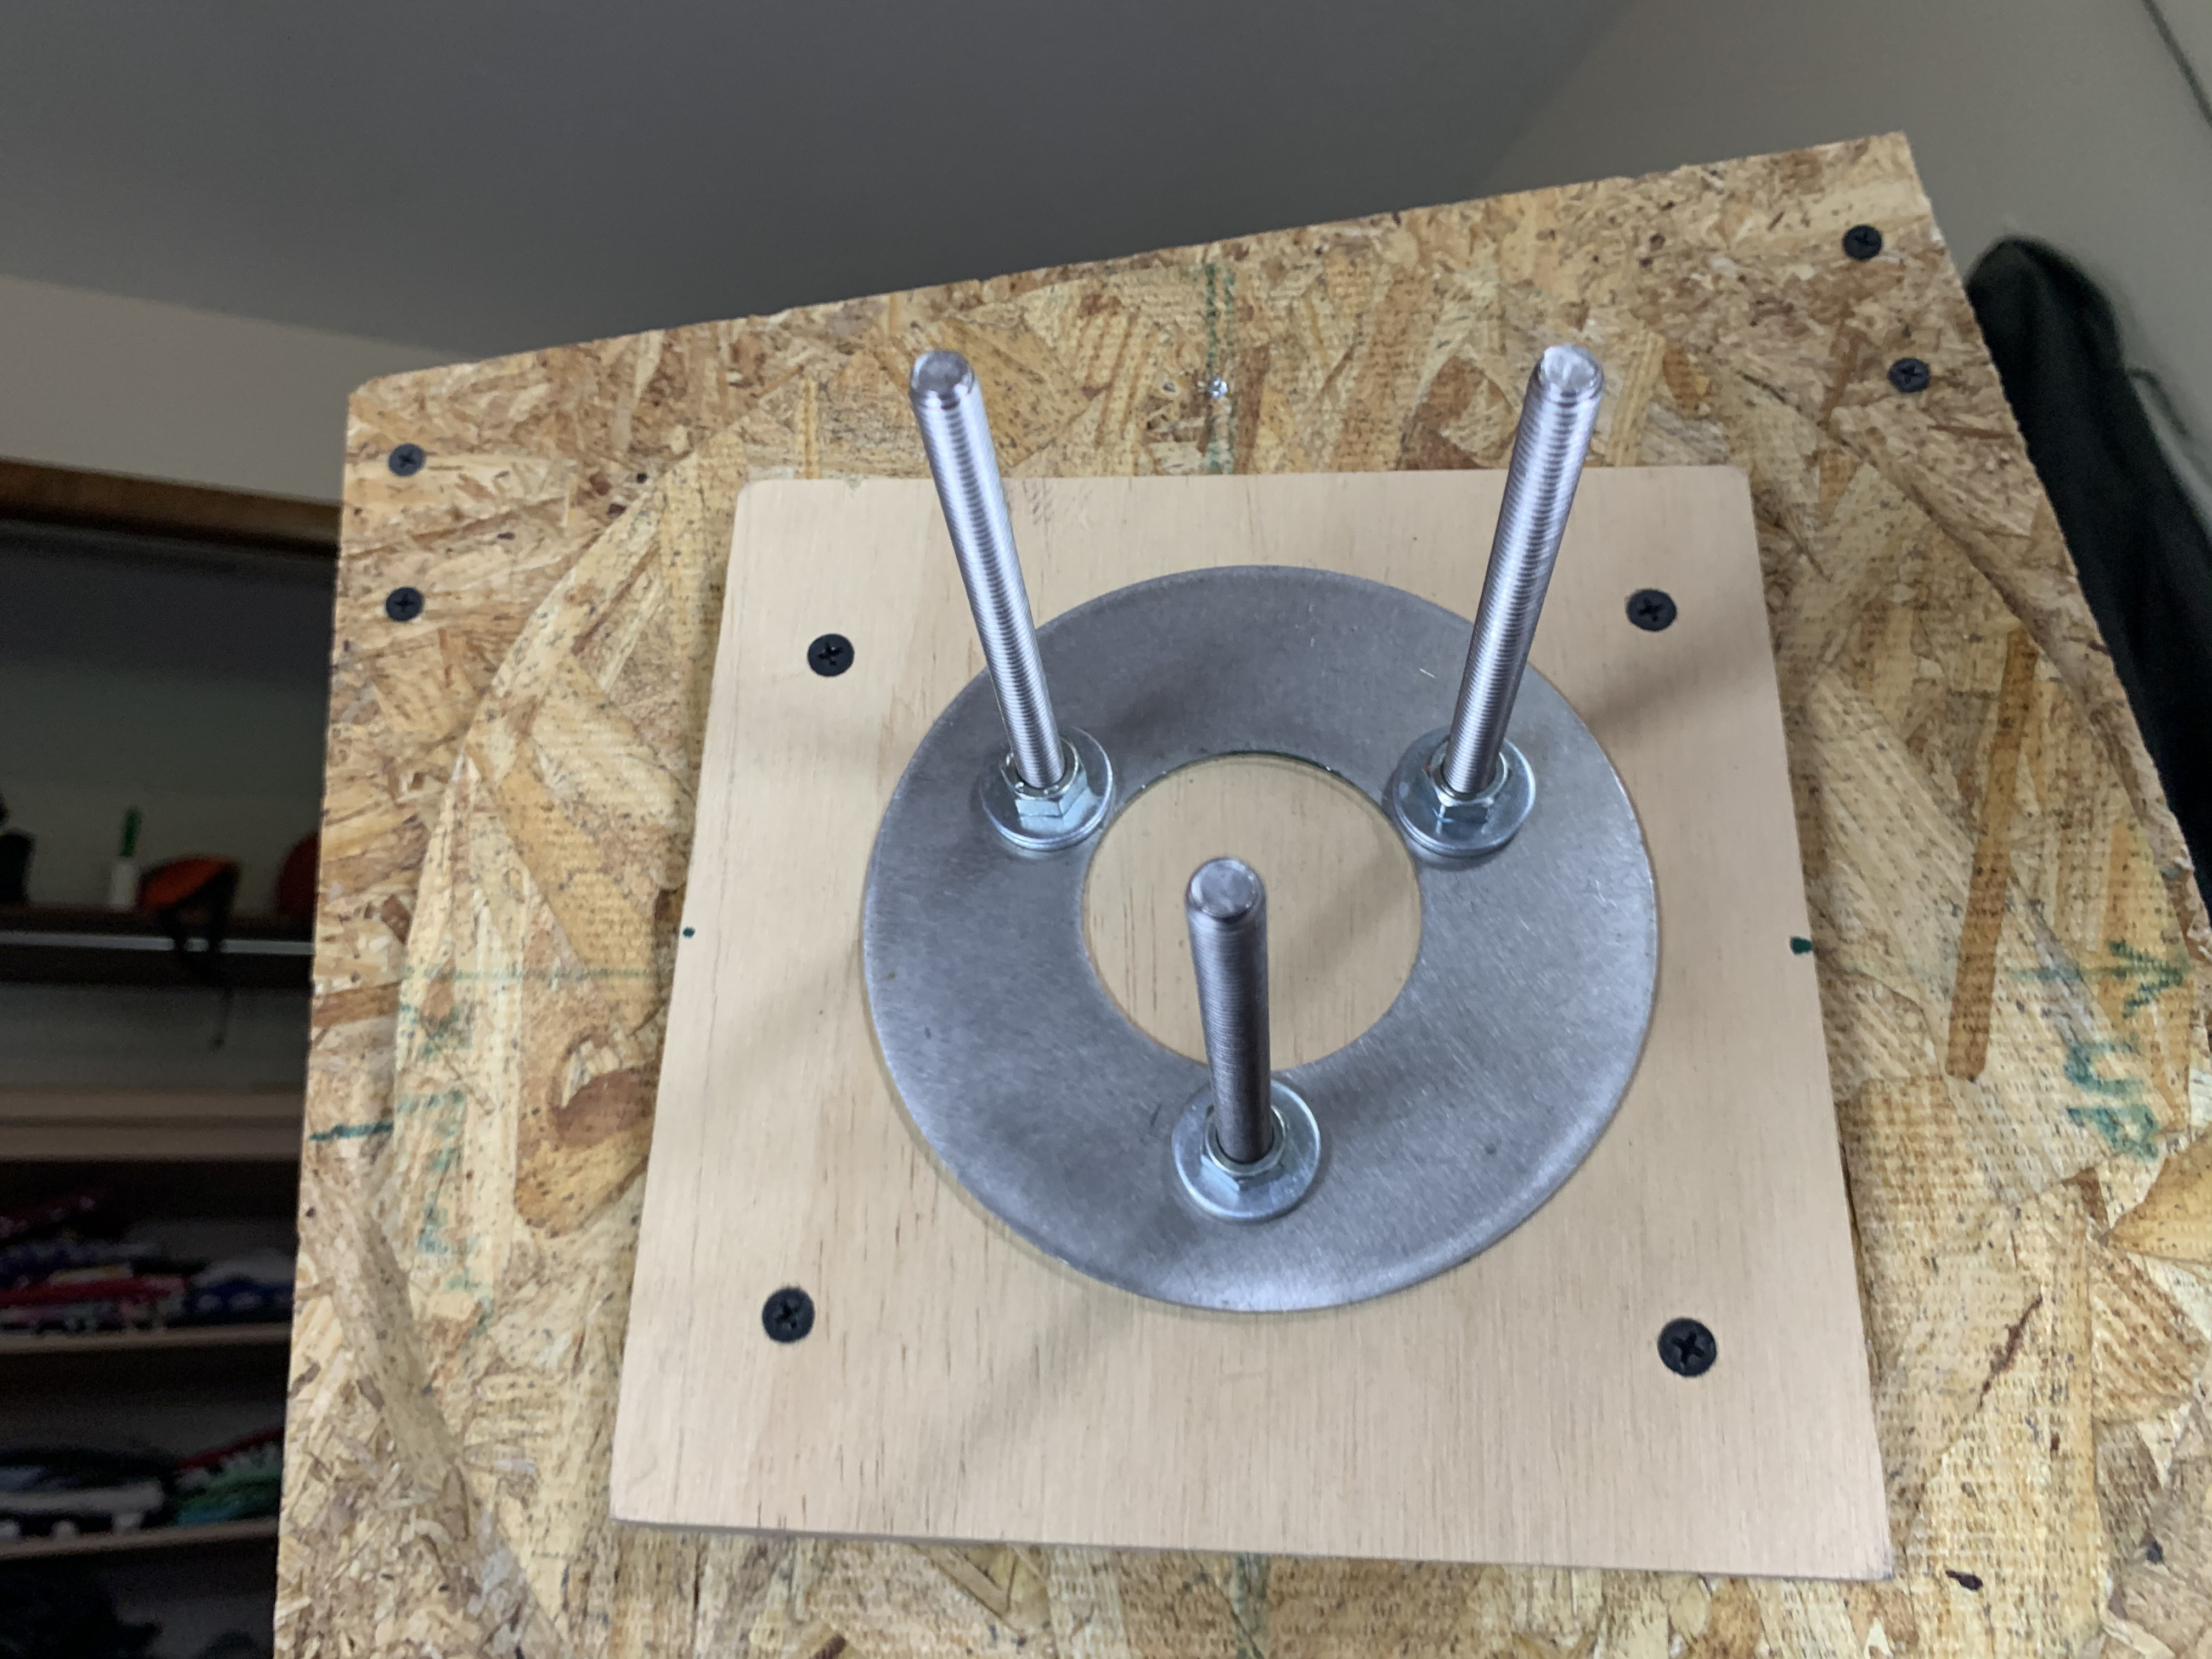bolt: (1165, 1075, 1325, 1225), (1388, 725, 1540, 864), (972, 718, 1118, 856)
